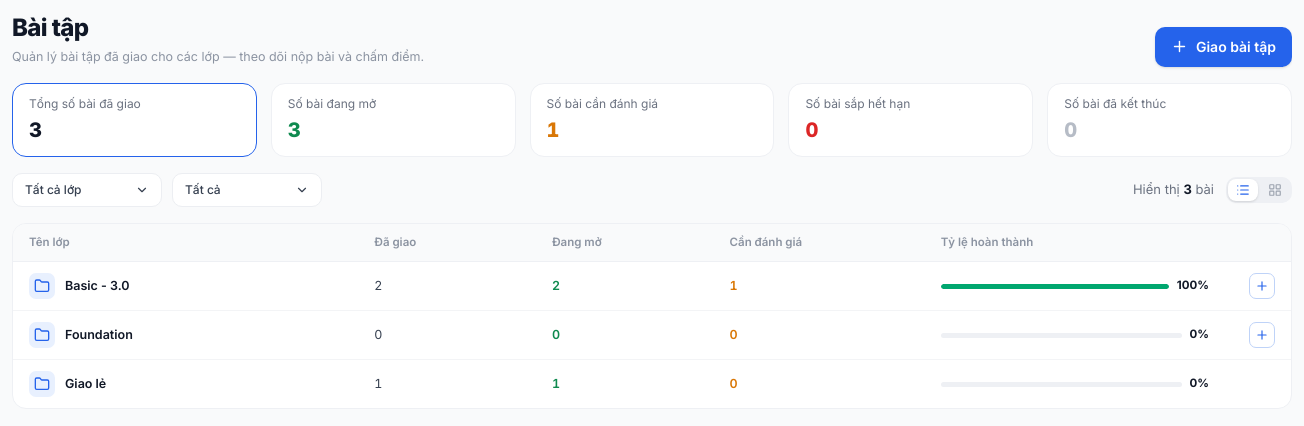
Test case: AssignmentsPage › defaults to the list view
expect the button with test id "class-folder-row-c1" is shown: met, box [13,262,1291,311]
What coordinates should you click on to do the following:
click the button with test id "view-grid"
I would click on:
 (1275, 190)
Its box is [1260,179,1290,201].
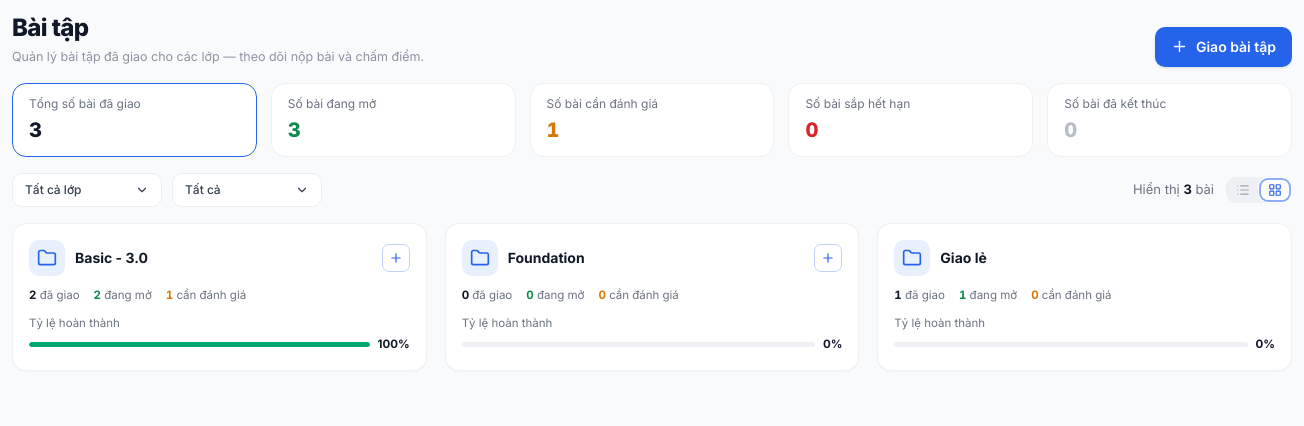
expect the button with test id "class-folder-card-c1" is shown: met, box [12,223,427,371]
expect the button with test id "class-folder-row-c1" is gone: met
